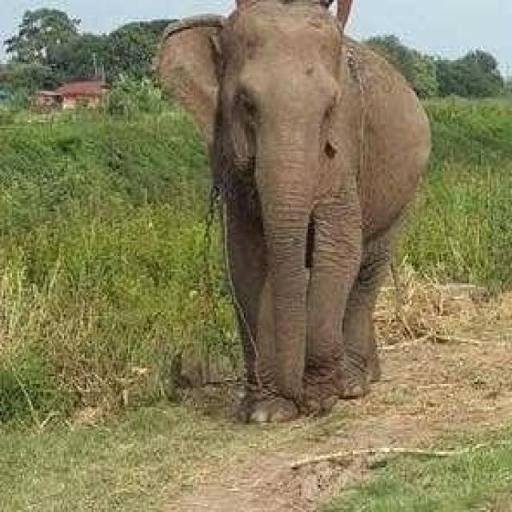Elephant: (150, 0, 433, 425)
